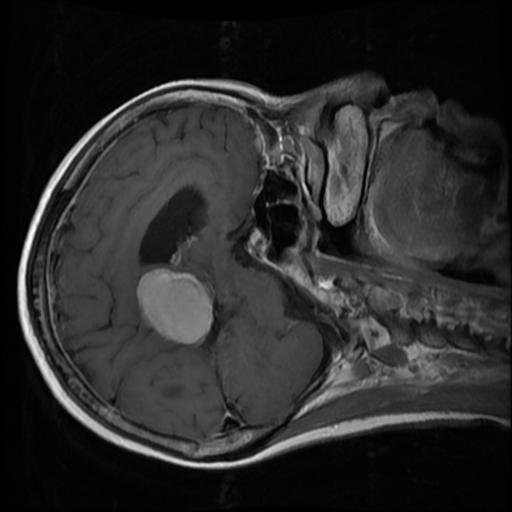meningioma: (134, 267, 215, 348)
